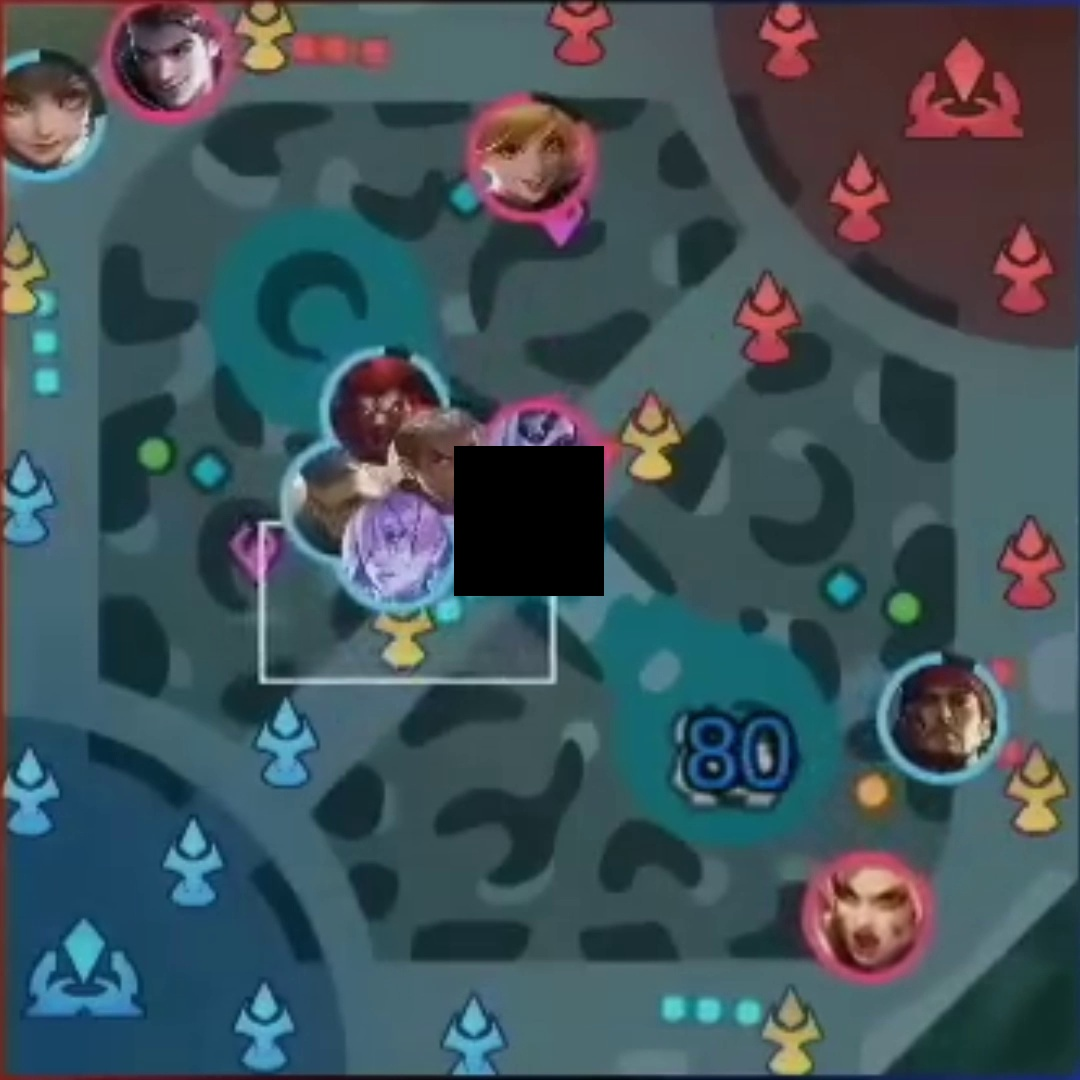Chou: (413, 423, 479, 508)
Claude: (128, 14, 213, 103)
Fanny: (482, 109, 562, 206)
Fredrinn: (306, 460, 364, 528)
Lapu-Lapu: (905, 667, 983, 764)
Masha: (830, 868, 909, 966)
Minotaur: (346, 368, 404, 452)
Novaria: (356, 516, 435, 588)
Valentina: (497, 418, 580, 510)
Wanwan: (9, 70, 86, 165)
